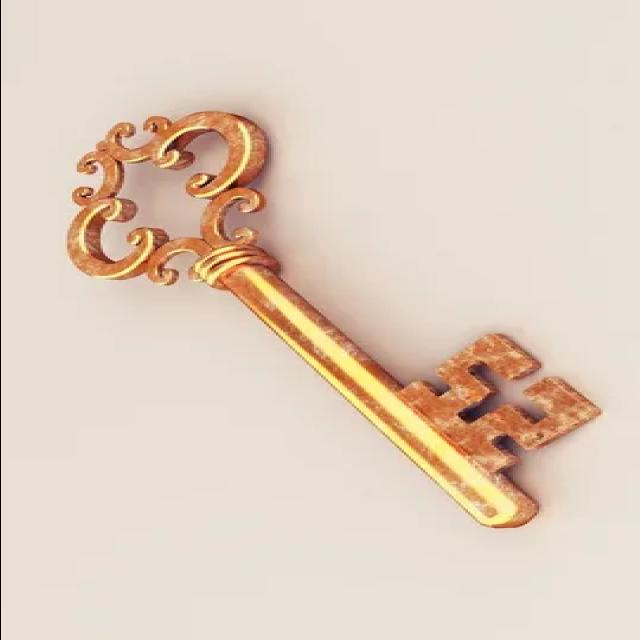key: (37, 102, 608, 532)
